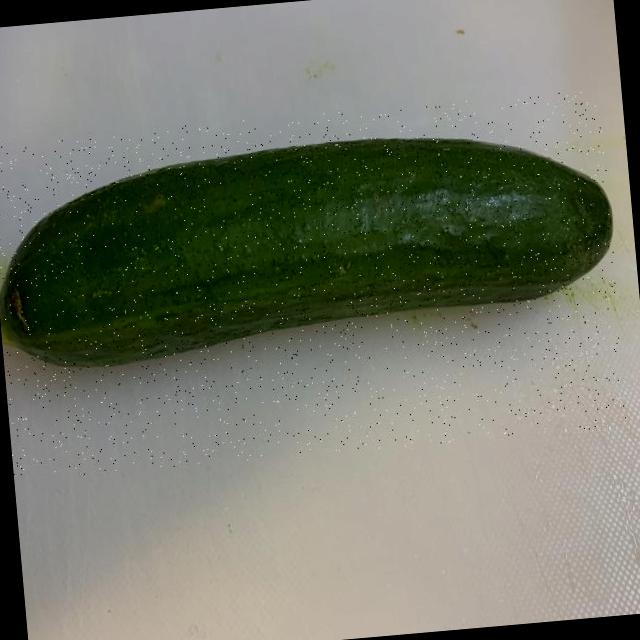Cucumber: (0, 117, 619, 372)
